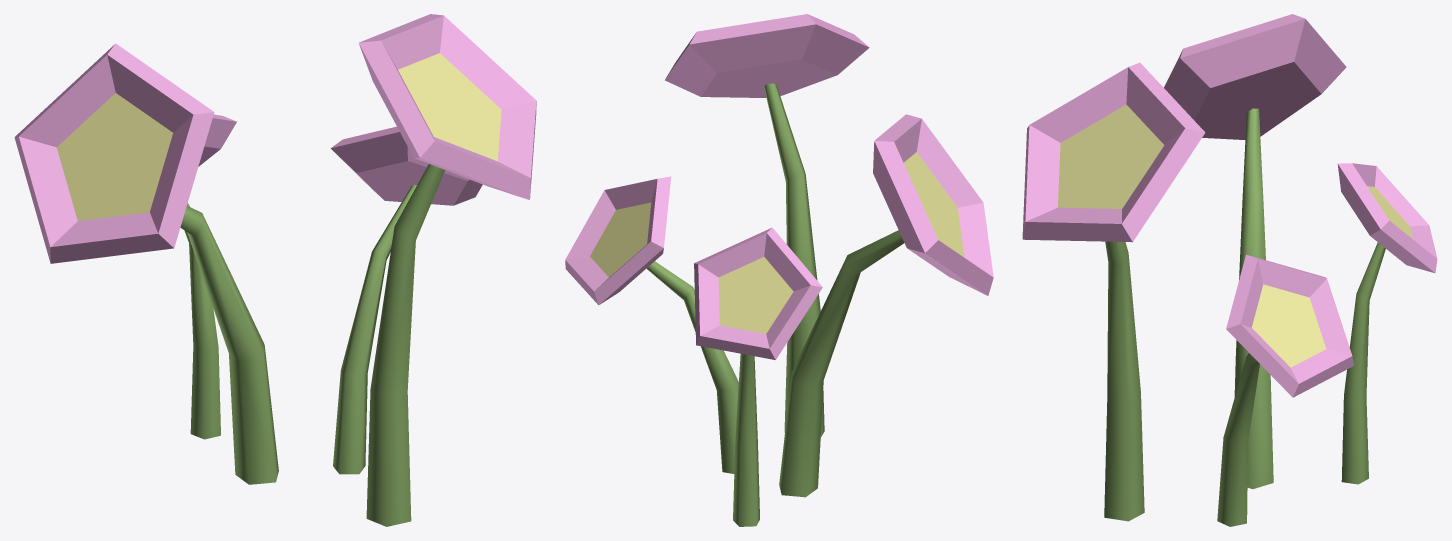
Rendered from Flowers_Pink.FBX.
3 renders of one model, left to right at view 1: azimuth 30°, elevation 25°; view 2: azimuth 150°, elevation 25°; view 3: azimuth 270°, elevation 25°, orthographic. The views are drawn at different scales.
Visible parts, largest first — view 1: Cylinder005, Cylinder009, Cylinder010, Cylinder006, Cylinder012, Cylinder011, Cylinder008, Cylinder007; view 2: Cylinder005, Cylinder007, Cylinder009, Cylinder006, Cylinder011, Cylinder010, Cylinder008, Cylinder012; view 3: Cylinder009, Cylinder005, Cylinder011, Cylinder010, Cylinder006, Cylinder007, Cylinder008, Cylinder012.
Boxes of the visible parts, x1,y1,x2,y2 form: Cylinder005: [14, 43, 214, 263]; Cylinder009: [358, 14, 536, 199]; Cylinder010: [366, 164, 445, 526]; Cylinder006: [180, 205, 278, 484]; Cylinder012: [333, 184, 416, 474]; Cylinder011: [330, 126, 482, 205]; Cylinder008: [184, 203, 220, 439]; Cylinder007: [198, 114, 236, 166]; Cylinder005: [873, 114, 993, 295]; Cylinder007: [694, 227, 822, 359]; Cylinder009: [665, 14, 869, 97]; Cylinder006: [779, 230, 904, 497]; Cylinder011: [565, 176, 671, 305]; Cylinder010: [764, 83, 824, 437]; Cylinder008: [733, 353, 759, 526]; Cylinder012: [646, 261, 738, 473]; Cylinder009: [1022, 62, 1205, 242]; Cylinder005: [1164, 14, 1346, 139]; Cylinder011: [1226, 254, 1353, 397]; Cylinder010: [1104, 241, 1144, 521]; Cylinder006: [1234, 108, 1273, 488]; Cylinder007: [1337, 163, 1437, 273]; Cylinder008: [1341, 242, 1385, 484]; Cylinder012: [1217, 353, 1259, 526].
Bounding box in the file's own units: 3.53 × 3.54 × 3.01.
